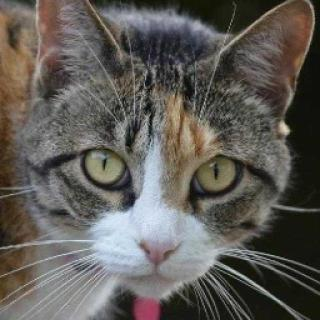cat: (27, 0, 313, 302)
nose: (133, 198, 182, 270)
